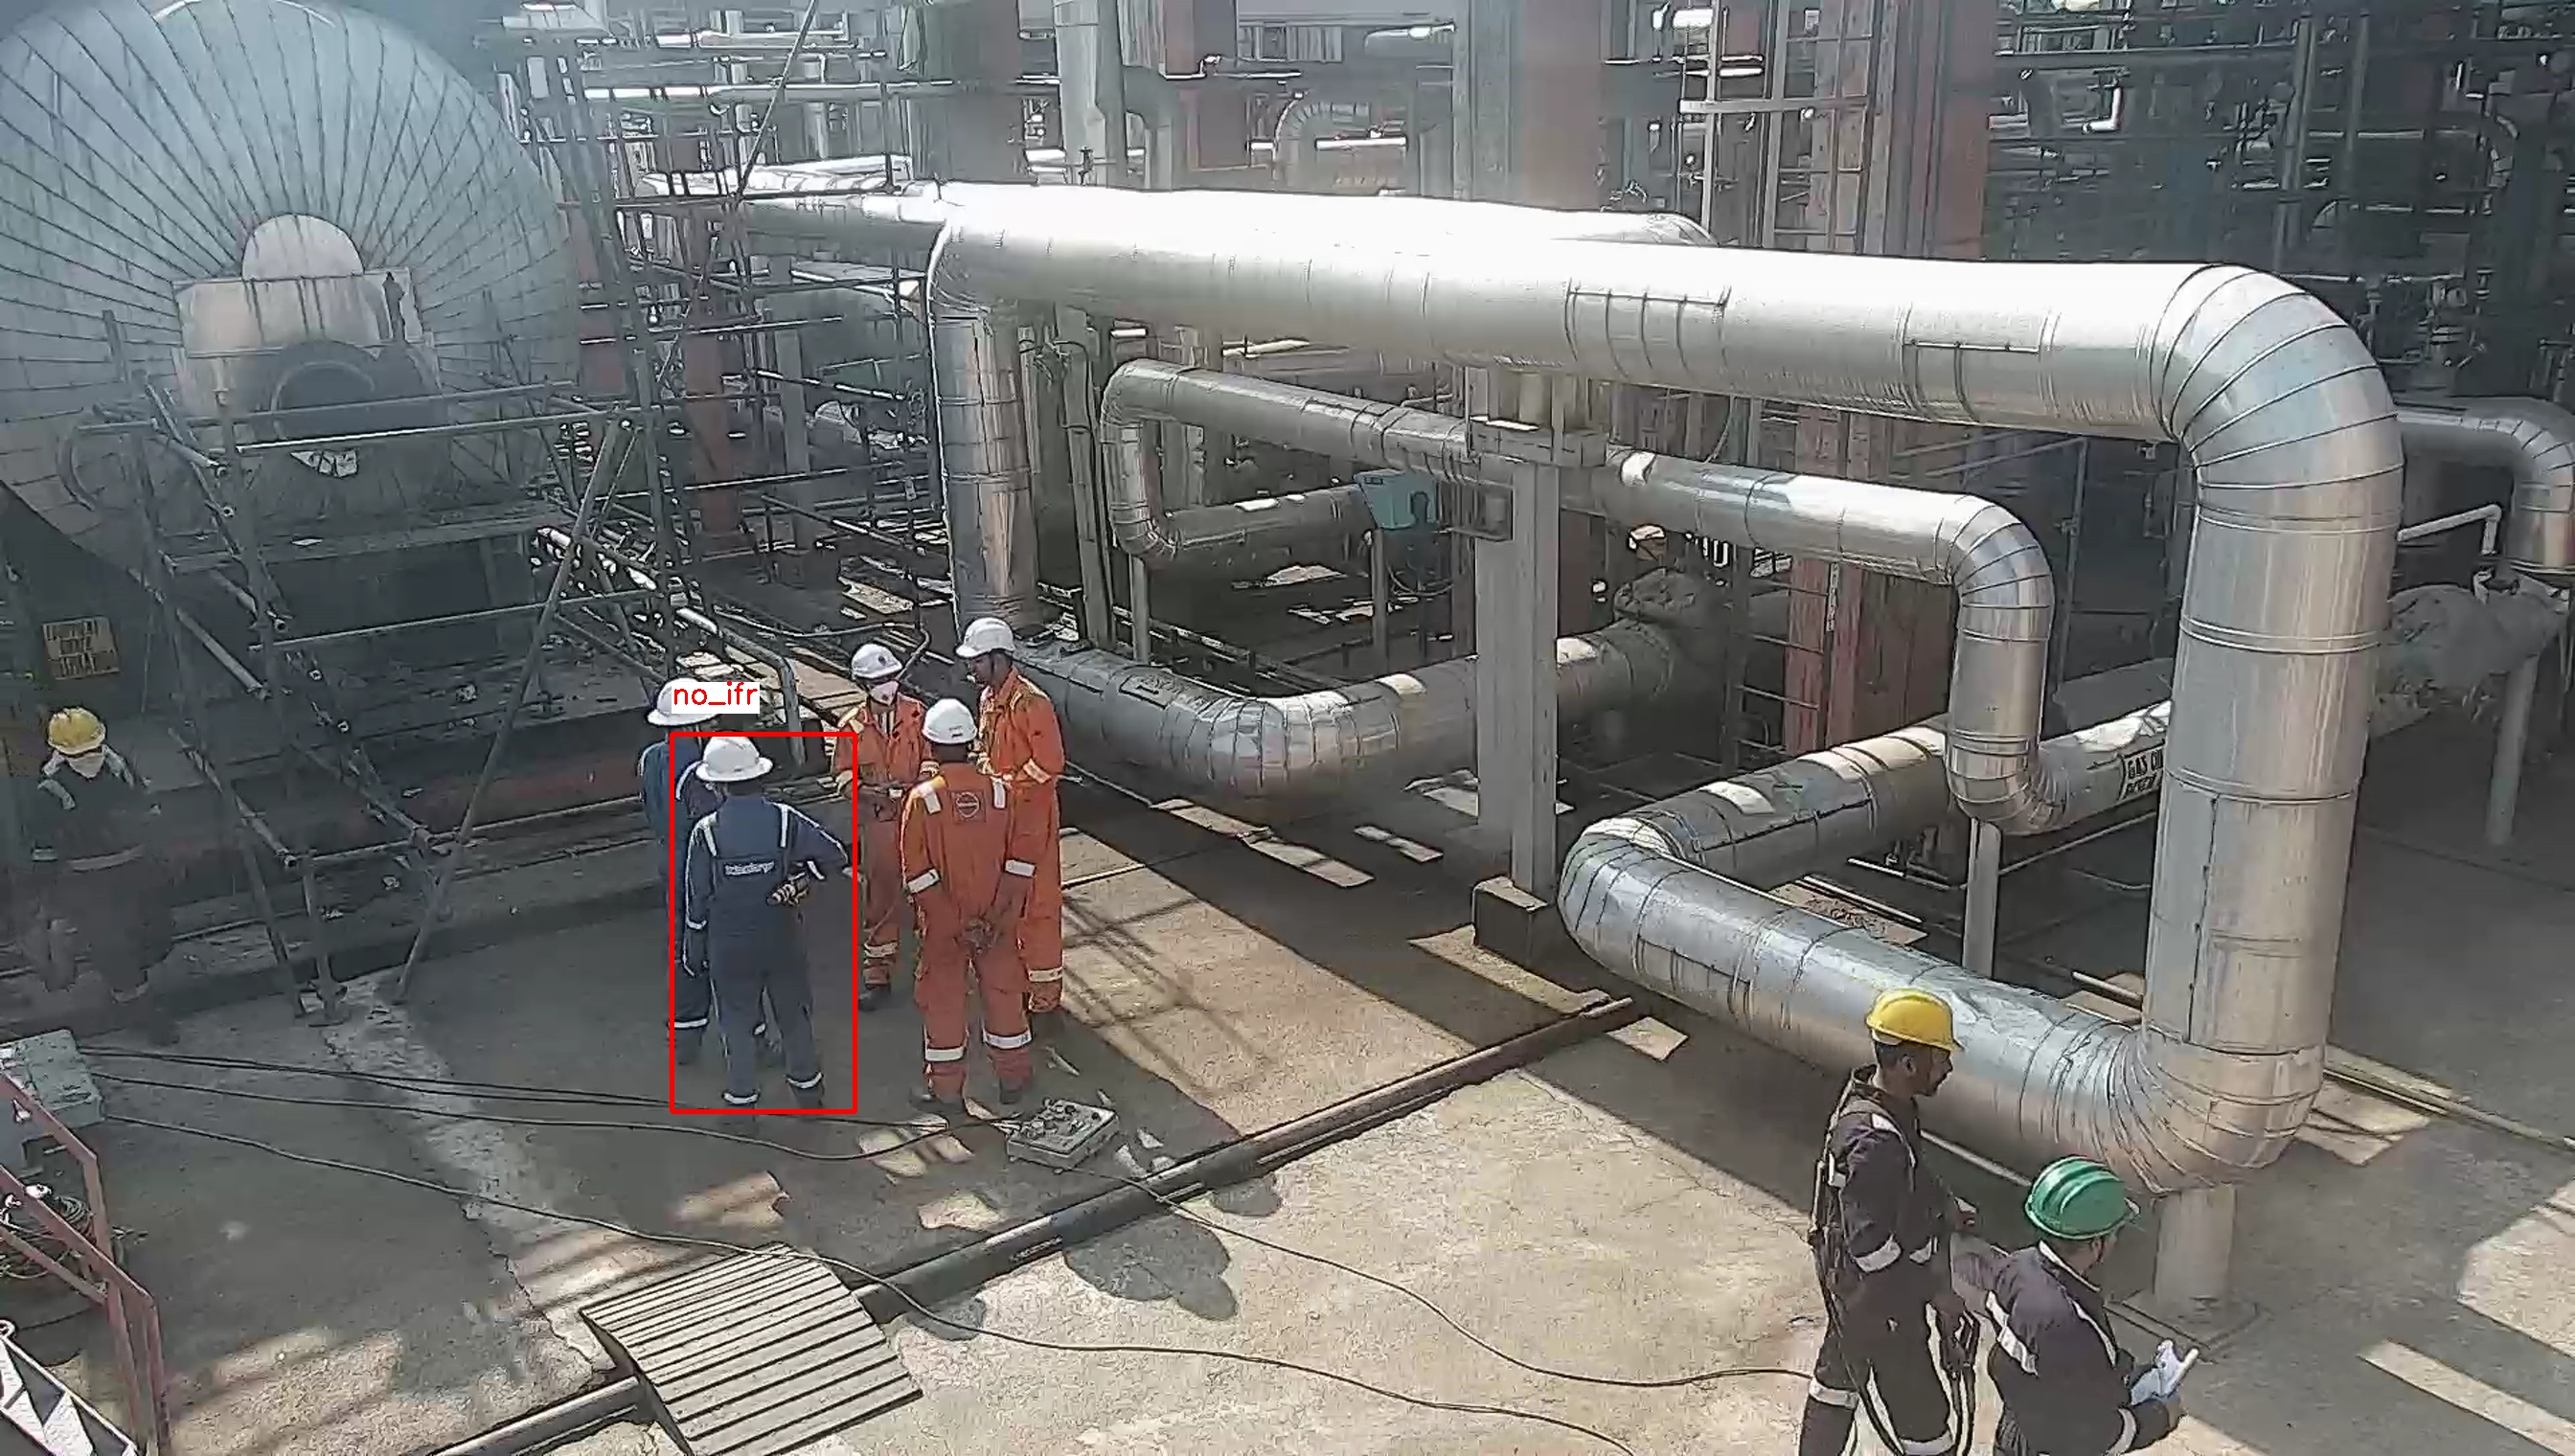Helmets: (39, 702, 111, 755), (916, 695, 983, 750), (951, 614, 1022, 662), (842, 639, 911, 679)
IFR_Suit: (684, 793, 842, 1102), (902, 761, 1047, 1079), (973, 678, 1074, 991)
